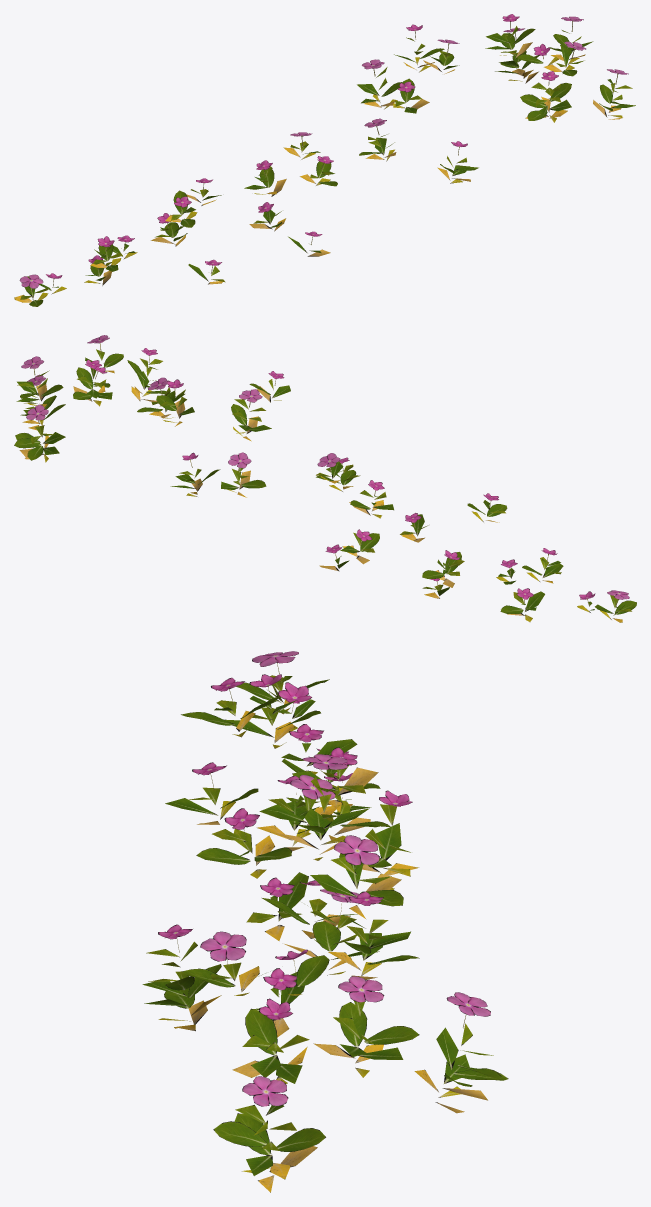
File: periwinkle_plant.glb
3 renders of one model, top to bottom at view 1: azimuth 30°, elevation 25°; view 2: azimuth 150°, elevation 25°; view 3: azimuth 270°, elevation 25°, orthographic. The views are drawn at different scales.
Parts seen in each view (by area): view 1: periwinkle_plant_01_LOD0, periwinkle_plant_02_LOD0, periwinkle_plant_03_LOD0, periwinkle_plant_04_LOD0, periwinkle_plant_05_LOD0, periwinkle_plant_06_LOD0; view 2: periwinkle_plant_01_LOD0, periwinkle_plant_02_LOD0, periwinkle_plant_03_LOD0, periwinkle_plant_04_LOD0, periwinkle_plant_05_LOD0, periwinkle_plant_06_LOD0; view 3: periwinkle_plant_01_LOD0, periwinkle_plant_02_LOD0, periwinkle_plant_03_LOD0, periwinkle_plant_04_LOD0, periwinkle_plant_05_LOD0, periwinkle_plant_06_LOD0.
Part boxes in pixels (box(x1,y1,x2,y2)): periwinkle_plant_01_LOD0: box(485, 14, 635, 122); periwinkle_plant_02_LOD0: box(357, 24, 478, 183); periwinkle_plant_03_LOD0: box(244, 132, 337, 256); periwinkle_plant_04_LOD0: box(151, 178, 225, 284); periwinkle_plant_05_LOD0: box(84, 235, 137, 285); periwinkle_plant_06_LOD0: box(14, 273, 66, 306); periwinkle_plant_01_LOD0: box(14, 335, 170, 462); periwinkle_plant_02_LOD0: box(137, 371, 290, 497); periwinkle_plant_03_LOD0: box(316, 453, 393, 571); periwinkle_plant_04_LOD0: box(400, 493, 507, 598); periwinkle_plant_05_LOD0: box(496, 548, 563, 621); periwinkle_plant_06_LOD0: box(577, 590, 636, 622); periwinkle_plant_01_LOD0: box(142, 891, 508, 1192); periwinkle_plant_02_LOD0: box(165, 754, 418, 1083); periwinkle_plant_03_LOD0: box(196, 775, 357, 1037); periwinkle_plant_04_LOD0: box(181, 677, 390, 940); periwinkle_plant_05_LOD0: box(224, 674, 380, 806); periwinkle_plant_06_LOD0: box(236, 651, 329, 732).
Size of the model in its own units: 1.24 by 0.3457 by 0.3207.
Materials: 1 (1 with a texture image).
